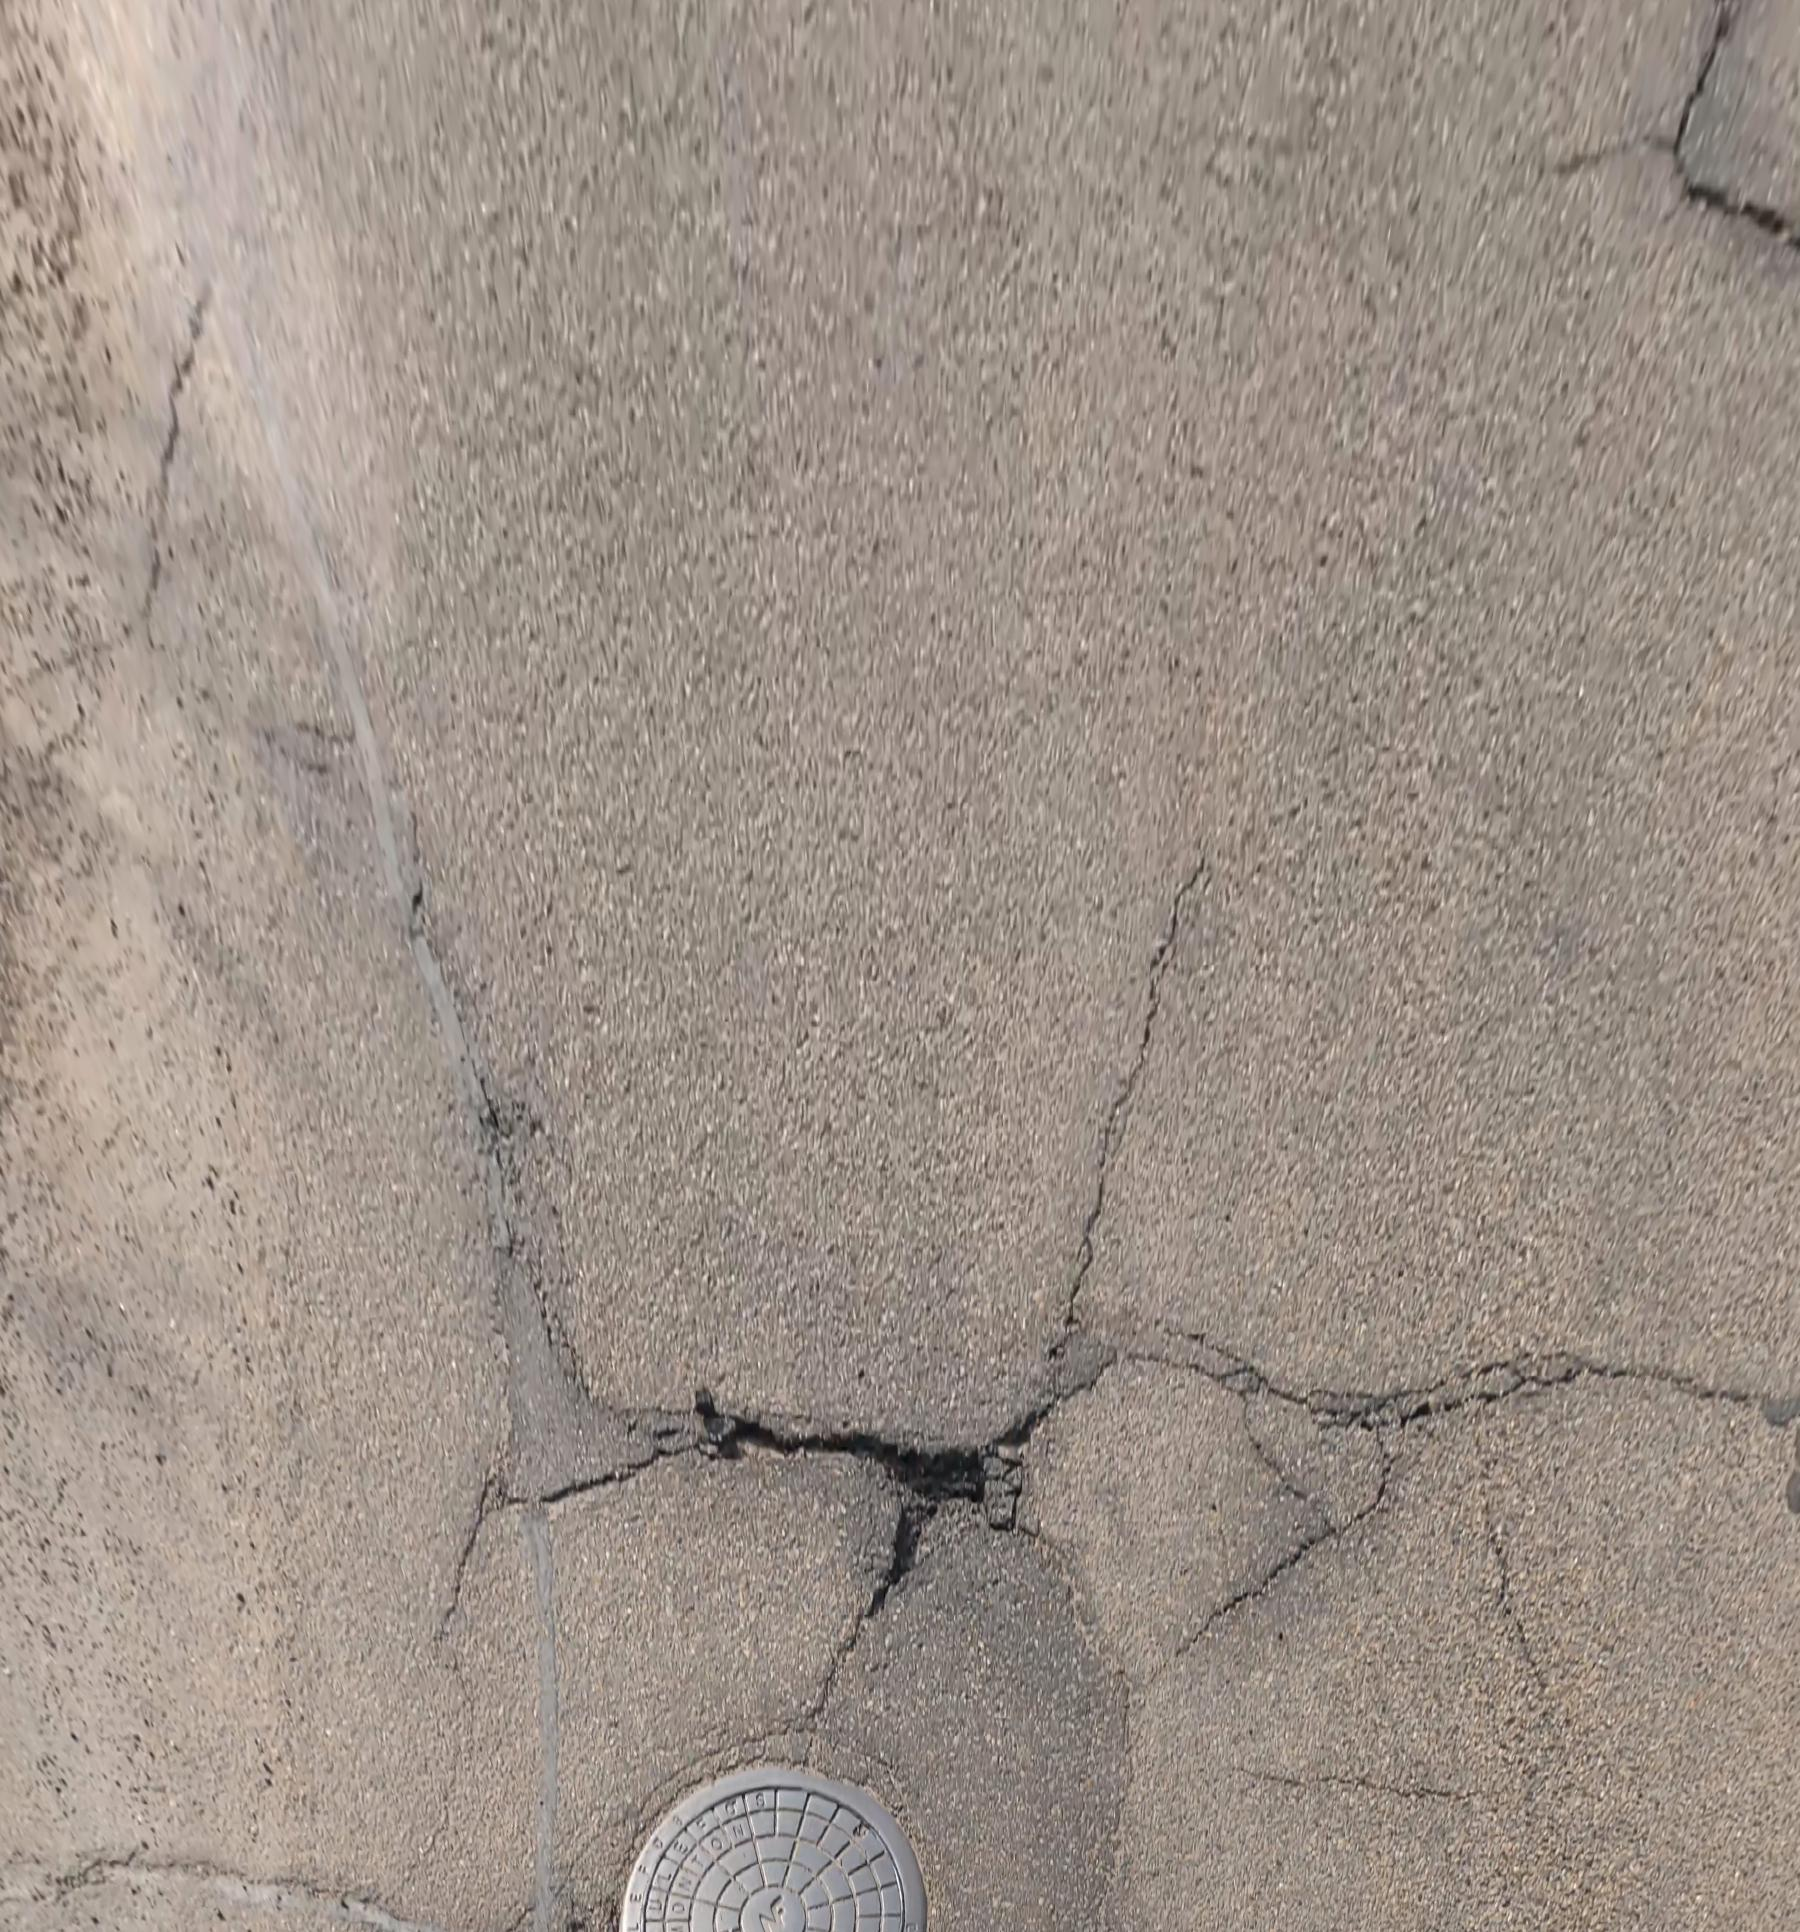pothole: (683, 1392, 1025, 1604)
pothole_patch_good: (491, 1216, 689, 1509)
